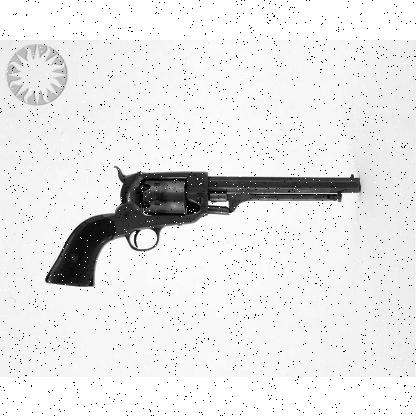gun: (46, 164, 360, 286)
